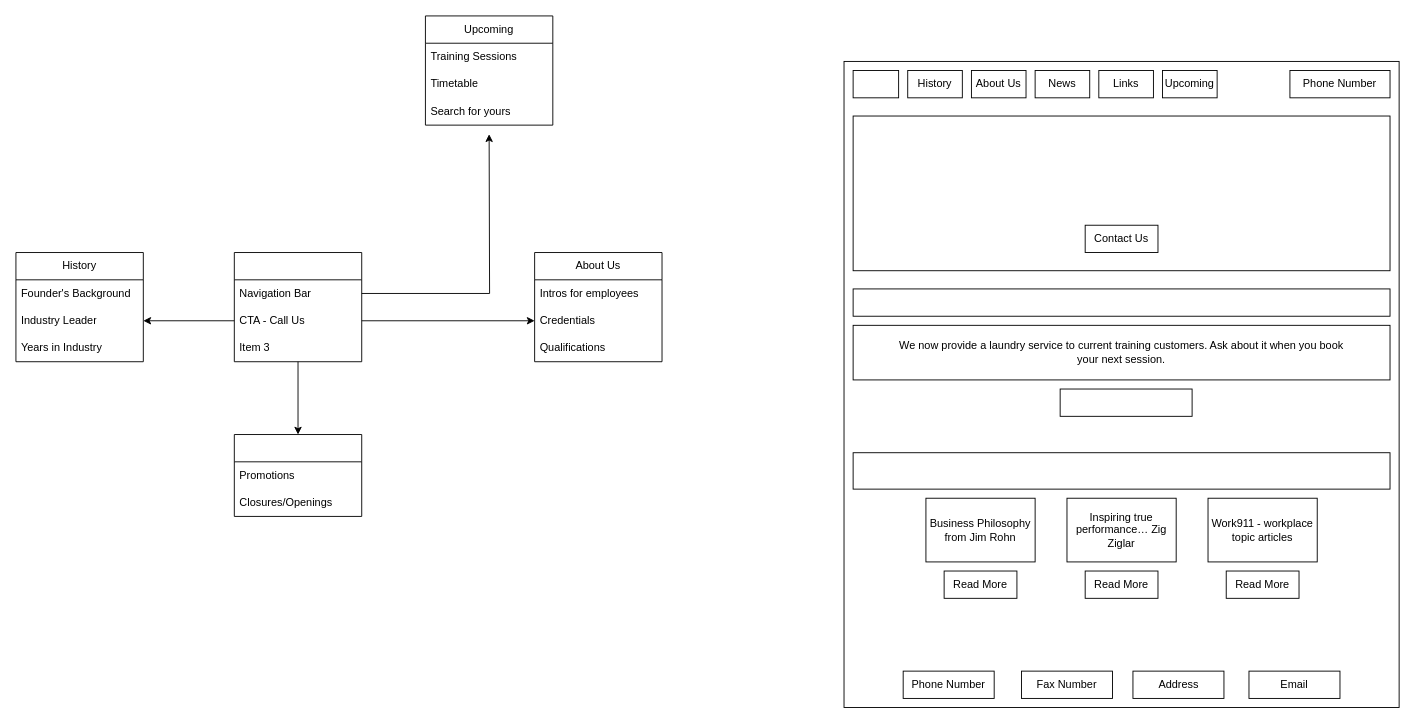
Some shapes in this 1415 by 723 pixel diagram are drawn without their labels. Here are the shapes that lost their labels. From the top down, the box of each, then its label:
(852, 70, 899, 98): LOGO
(852, 115, 1390, 271): Hero Banner Image
(233, 252, 362, 362): Home Page
(852, 288, 1390, 316): Latest Announcement
(1059, 388, 1192, 416): View All
(233, 434, 362, 516): Announcements
(852, 452, 1390, 489): Helpful Links
